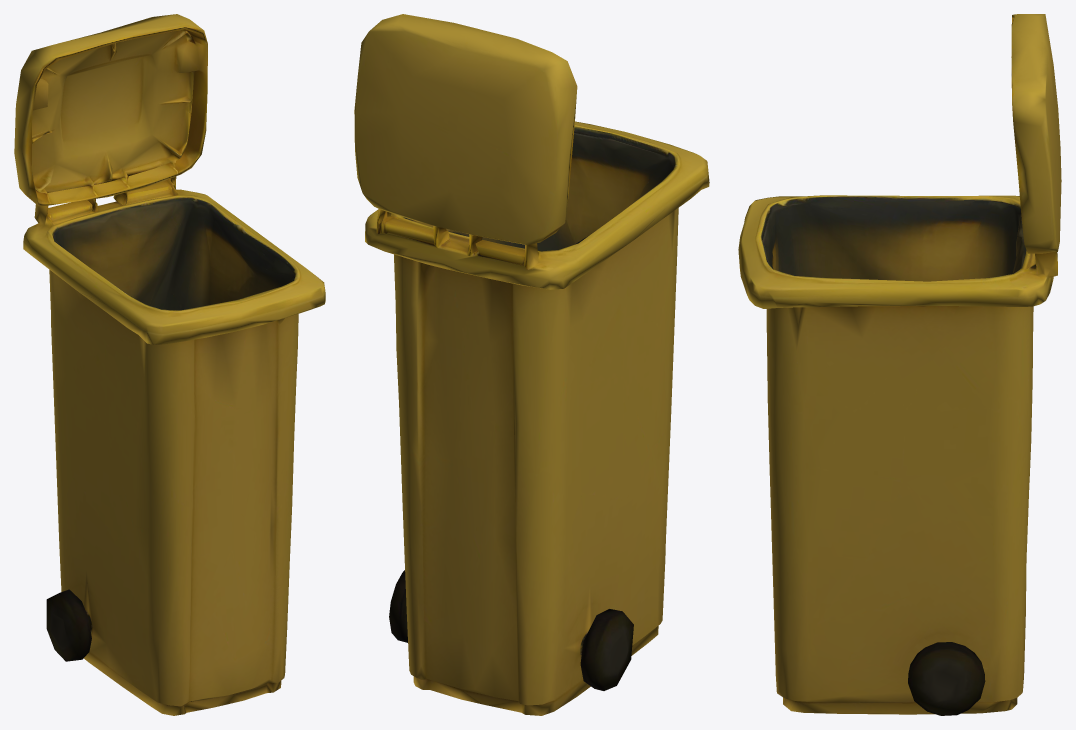
The model's file is yellow_trash_bin_3d_model_Clone1.fbx.
3 views of the same model, side by side, from view 1: azimuth 30°, elevation 25°; view 2: azimuth 150°, elevation 25°; view 3: azimuth 270°, elevation 25° (orthographic). The views are drawn at different scales.
Parts seen in each view (by area): view 1: tripo_node_85cc51d1; view 2: tripo_node_85cc51d1; view 3: tripo_node_85cc51d1.
Part boxes in pixels (bbox=[...]): tripo_node_85cc51d1: bbox=[14, 14, 325, 715]; tripo_node_85cc51d1: bbox=[354, 14, 709, 715]; tripo_node_85cc51d1: bbox=[738, 14, 1061, 715].
Size of the model in its own units: 0.3239 by 0.9801 by 0.4485.
